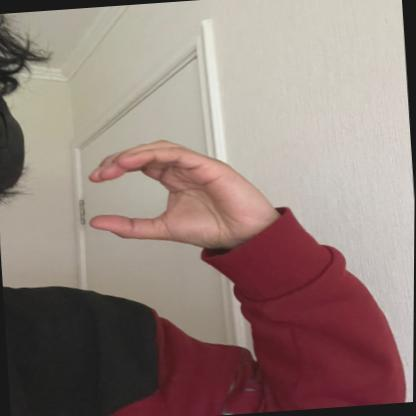C: (74, 125, 284, 278)
